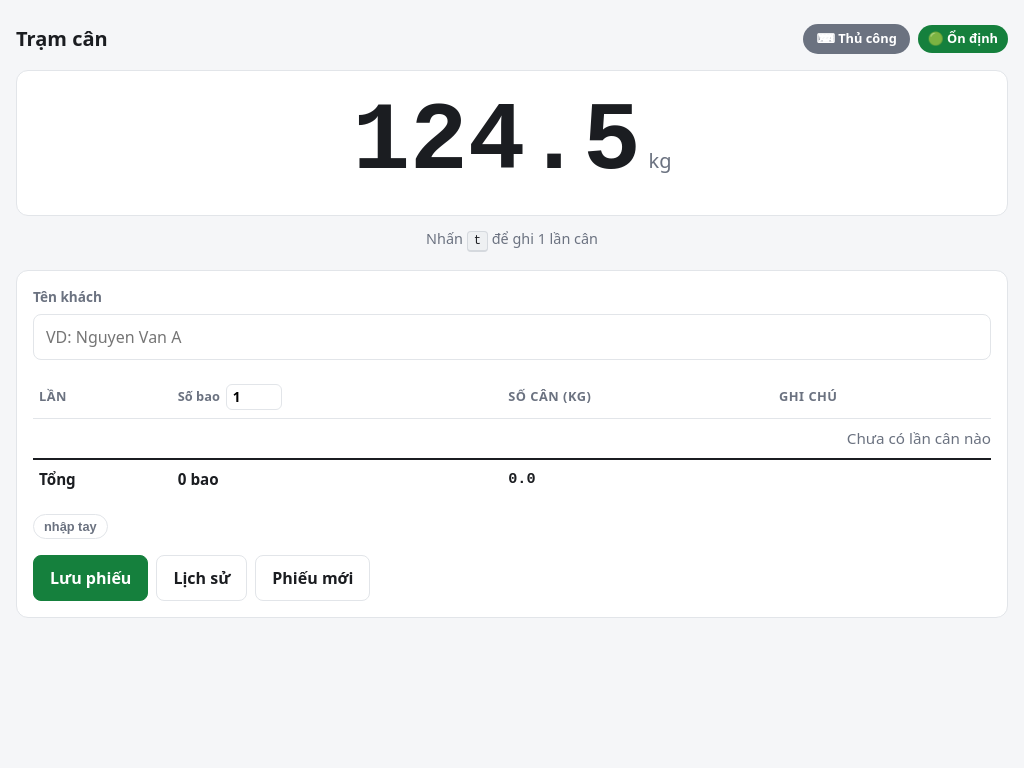
WeighScreen › báo lỗi khi sửa số cân không hợp lệ
Type keys "t"
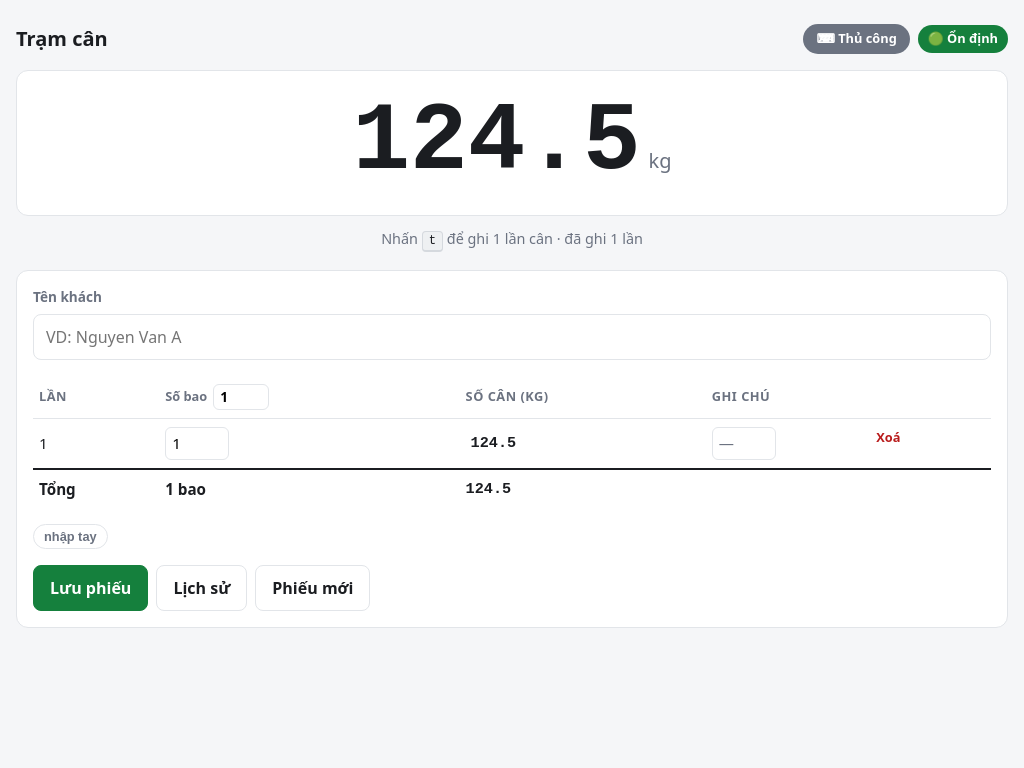
Click the button named "Sửa số cân lần 1" at (493, 444), box [466,429,521,458]
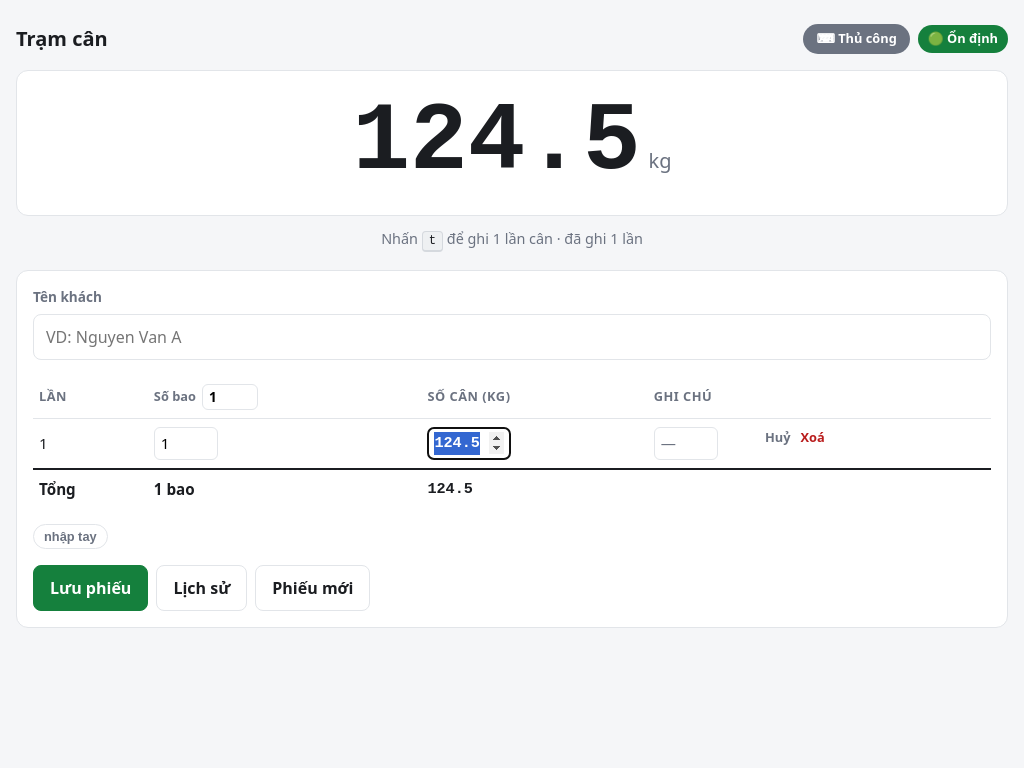
Clear the number field named "Số cân lần 1" at (469, 444), box [427,427,511,460]
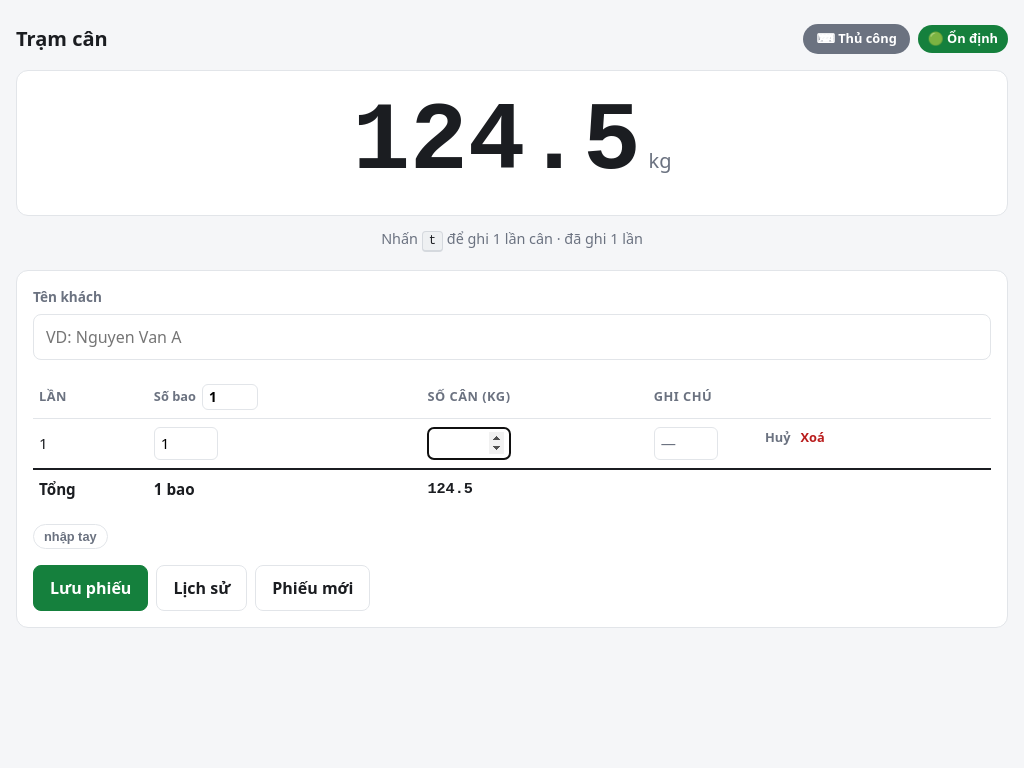
Press Enter
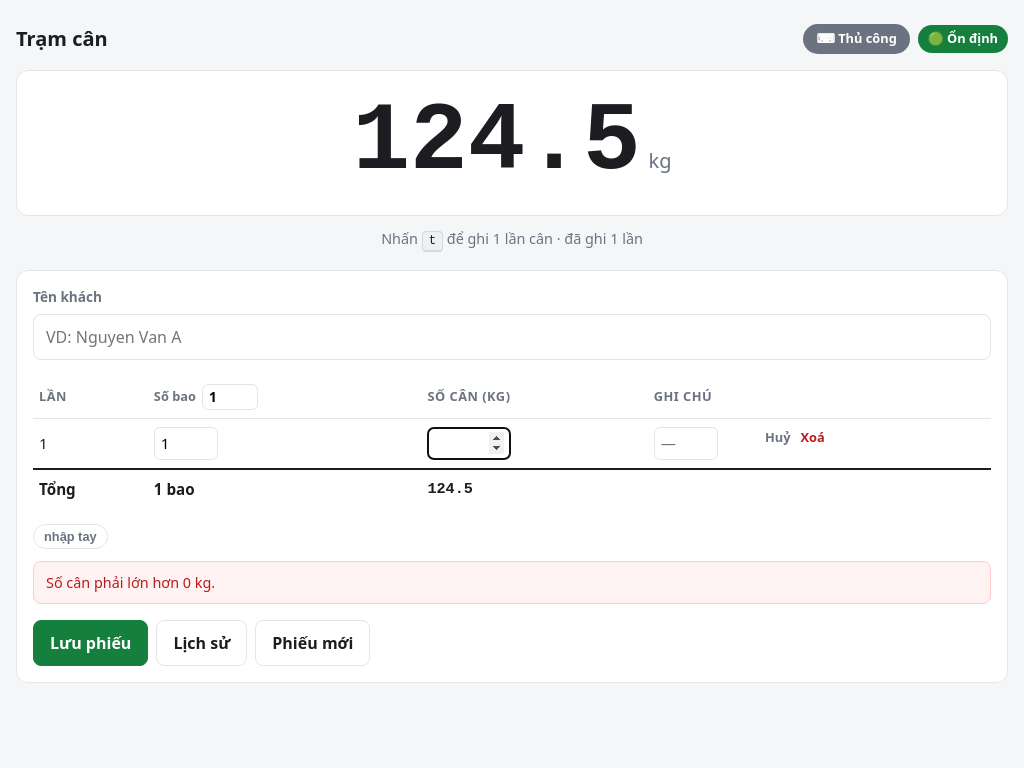
Expected: the text "Số cân phải lớn hơn 0 kg." is shown, [33,561,991,604]
